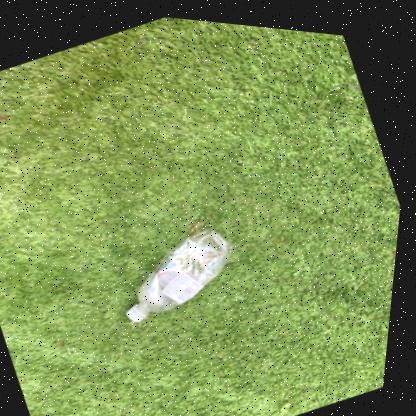Plastic: (132, 215, 236, 318)
